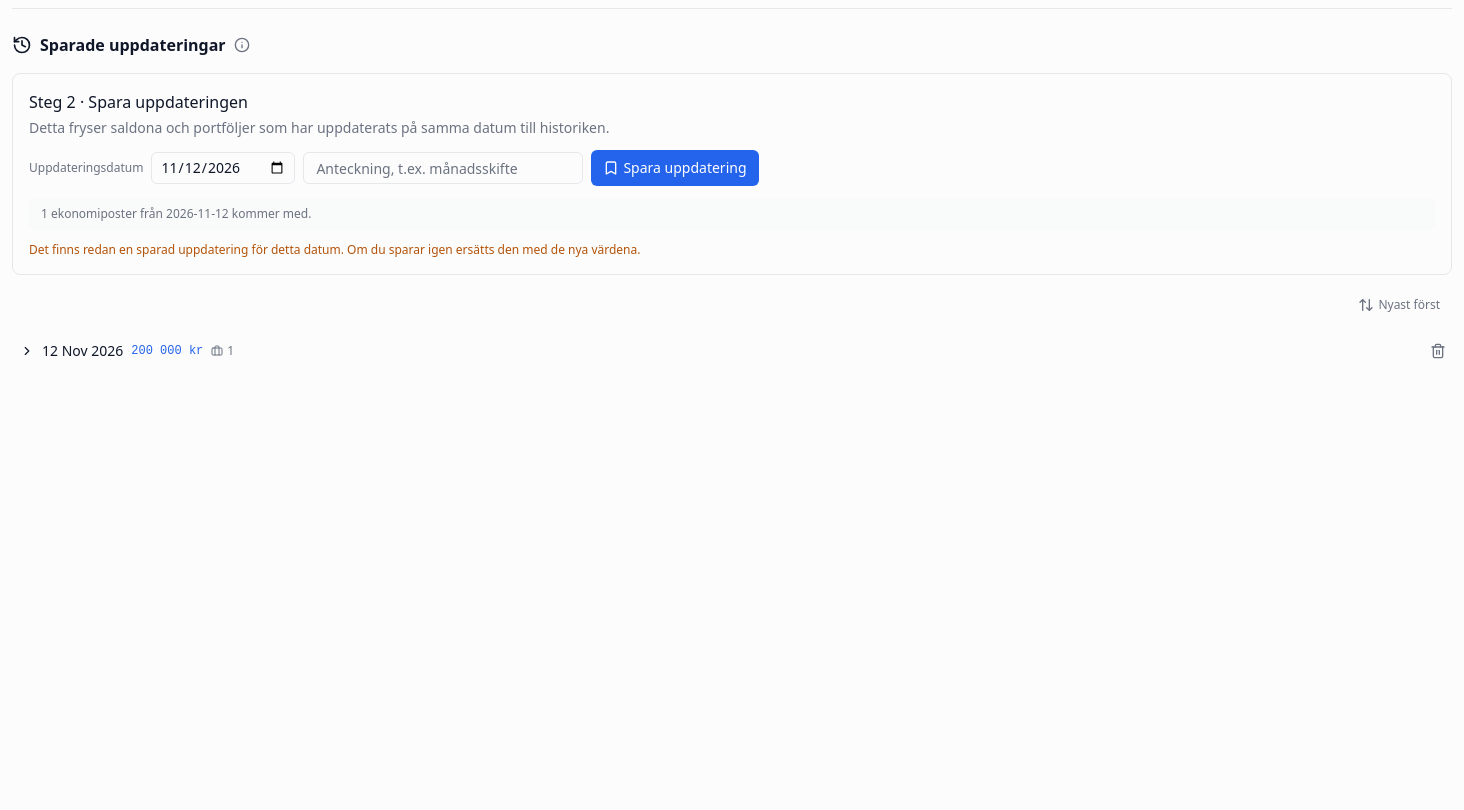
Test case: EconomySnapshotHistory › shows same-day holdings and includes their value in historical net worth
Expected: the text "Sparade uppdateringar" is shown, [12,34,250,56]
Click the button "12 Nov 2026 200 000 kr 1". click: (83, 350)
box: [12,335,1420,367]
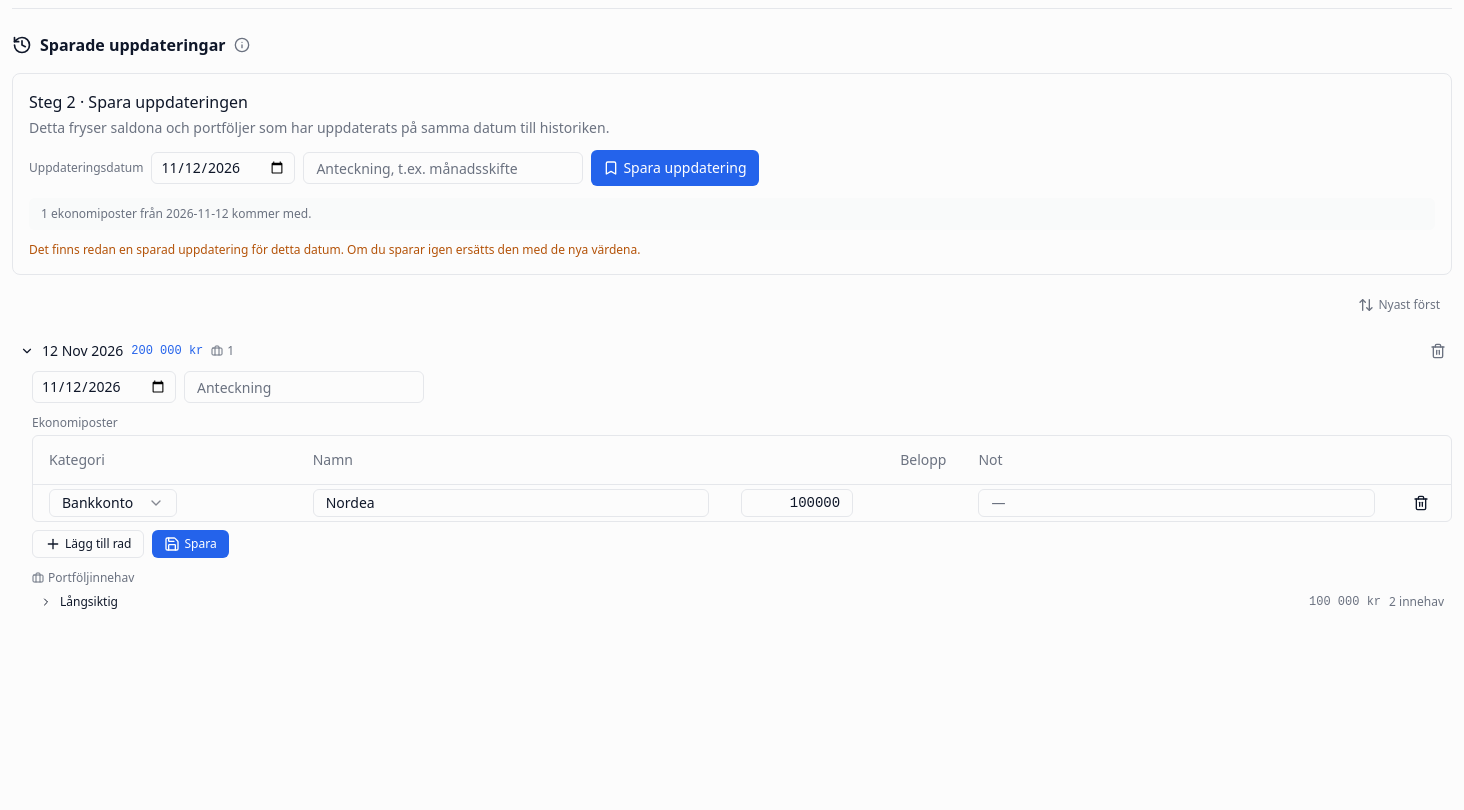
Expected: the text "200 000 kr" is shown, [131,343,203,359]
Now the button "Långsiktig 100 000 kr 2 innehav" is shown
Click the button "Långsiktig 100 000 kr 2 innehav". click: (89, 601)
box: [32,590,1452,614]
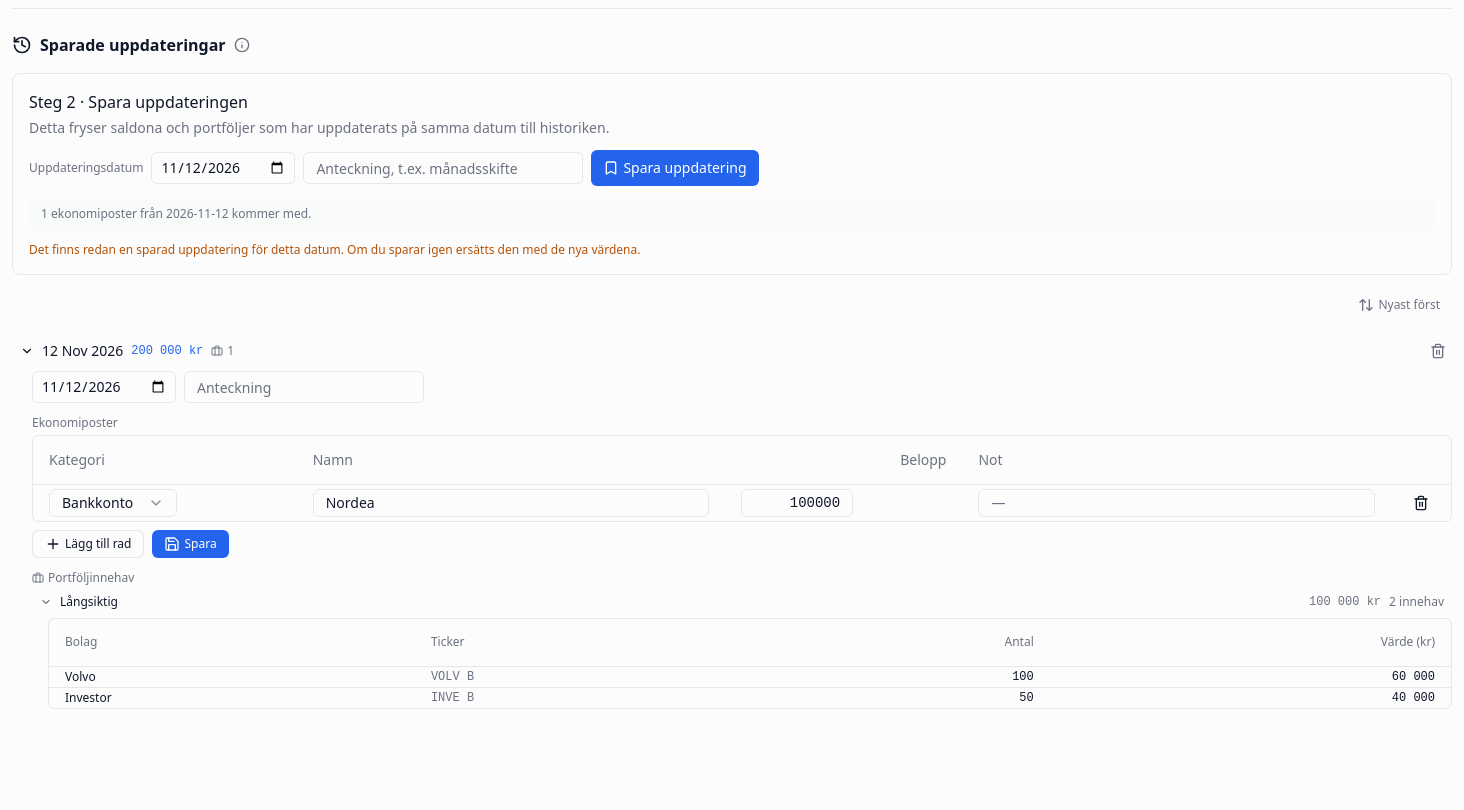
Now the text "Volvo" is shown, box [49,666,415,688]
Now the text "Investor" is shown, box [49,688,415,708]
